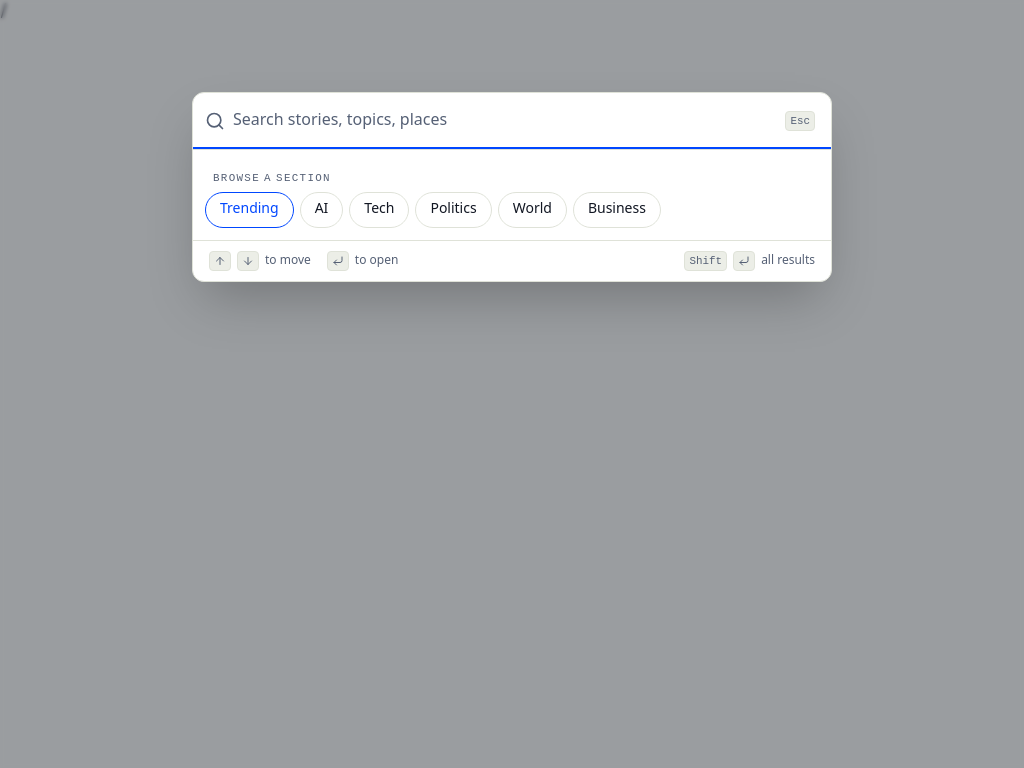
it: search palette › debounces typing into a single request ~200ms after the last keystroke
Type "c" into the dropdown labelled "Search stories".
click(503, 121); type("c")  # box [233, 93, 773, 149]
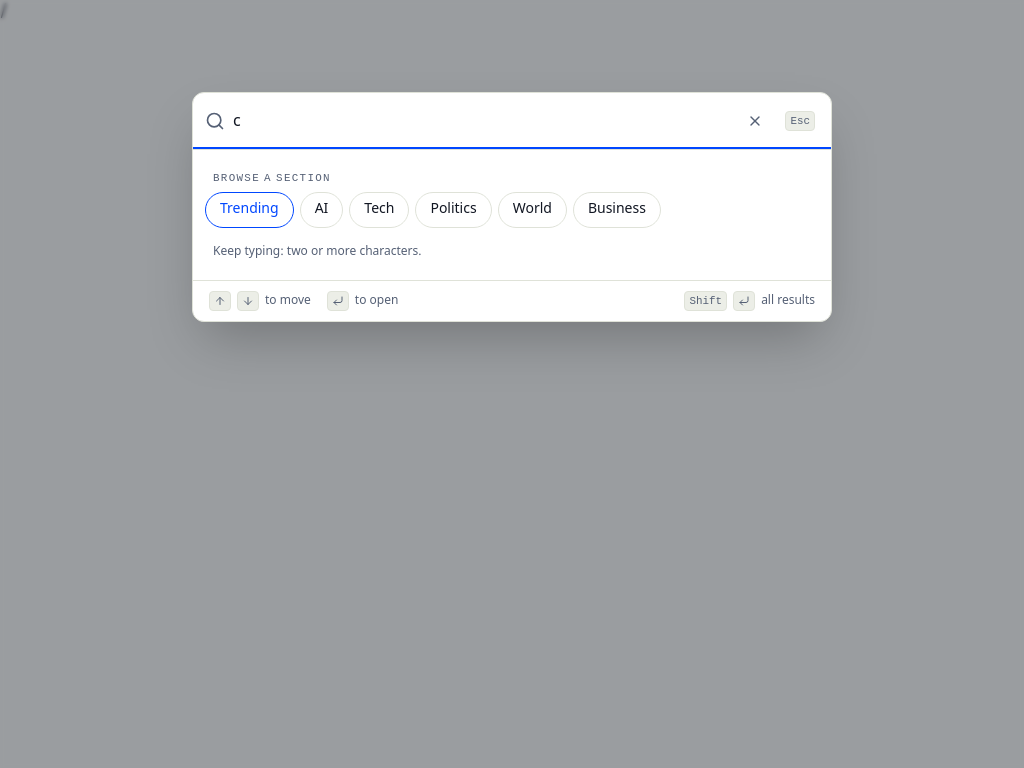
Replace the text in the dropdown named "Search stories" with "cl" at (481, 121), box [233, 93, 729, 149]
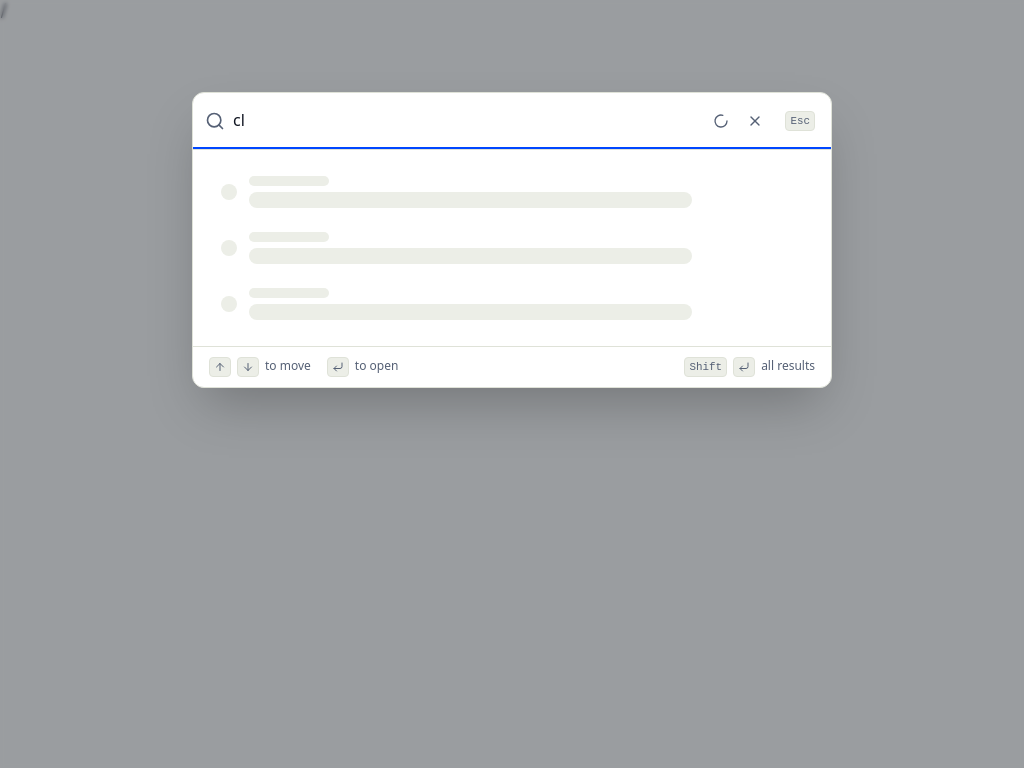
Replace the text in the dropdown named "Search stories" with "cli" at (469, 121), box [233, 93, 705, 149]
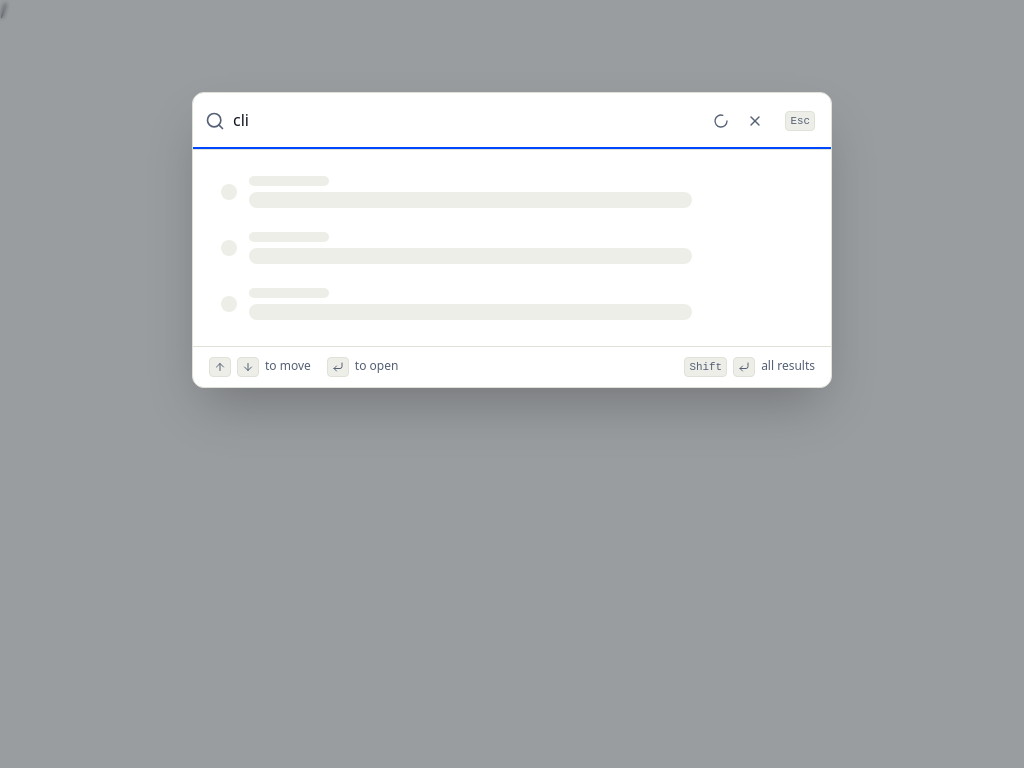
Replace the text in the dropdown named "Search stories" with "clim" at (469, 121), box [233, 93, 705, 149]
Wait 210 ms
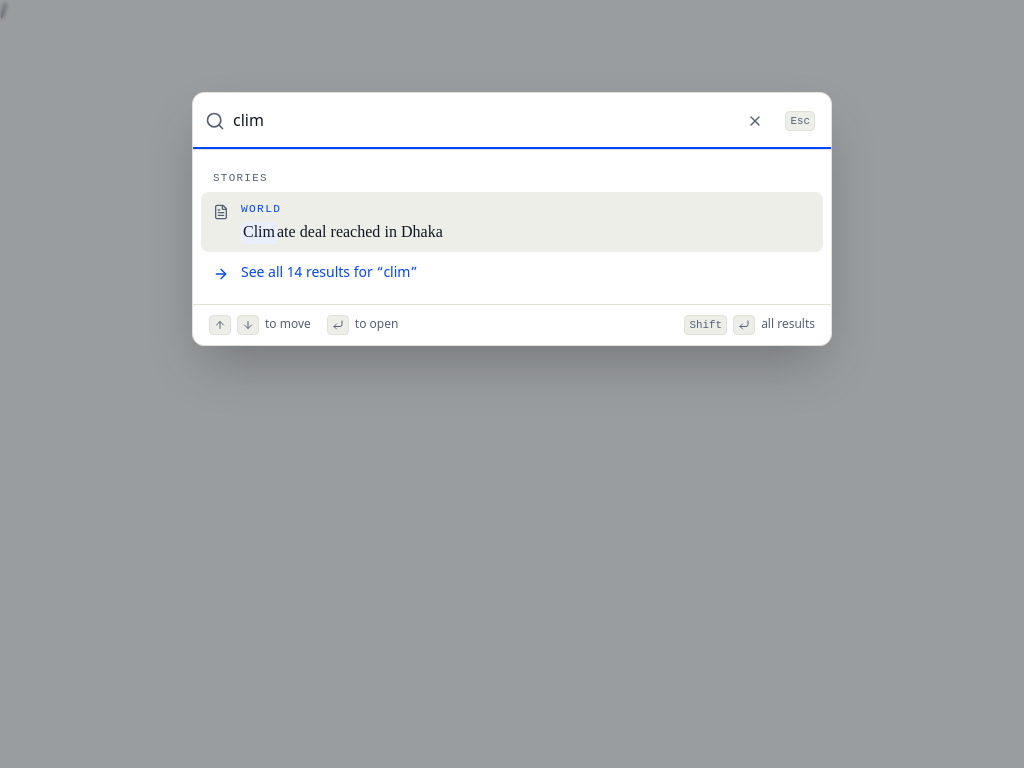
Expected: the text "Clim" is shown, [241, 222, 277, 244]
Expected: the option "See all 14 results for “clim”" is shown, [213, 264, 417, 284]
